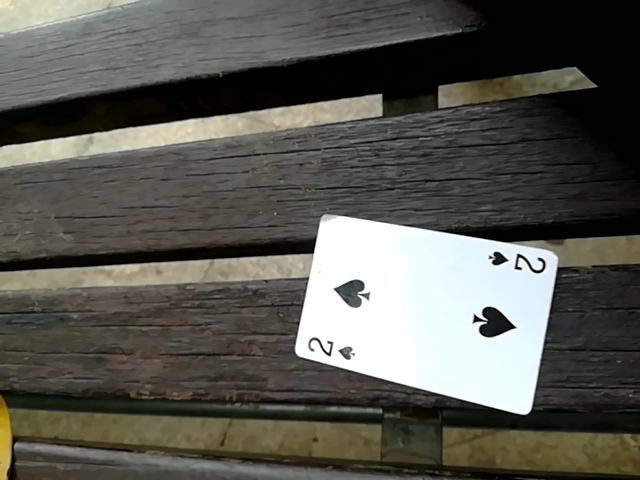ht 2: (293, 214, 555, 411)
